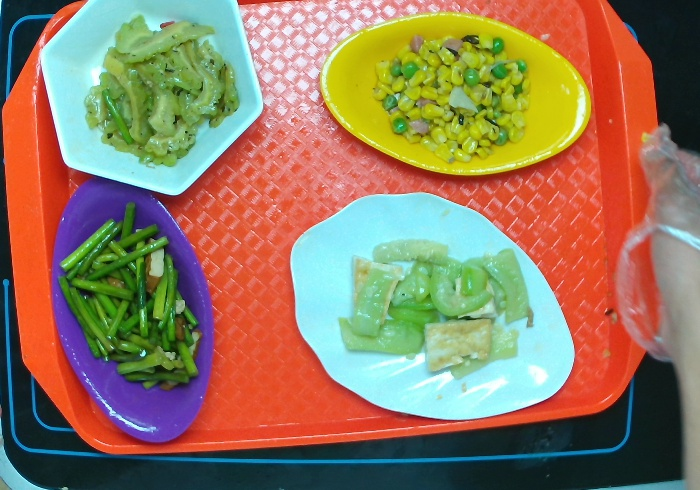RJxy-Bai_Ye_Pan: (286, 191, 588, 419)
RJxy-Fen_Hong_Tuo_Yuan: (49, 172, 209, 449)
RJxy-Huang_Se_Tuo_Yuan: (319, 16, 591, 180)
RJxy-Liu_Jiao_Wan: (42, 1, 262, 199)
